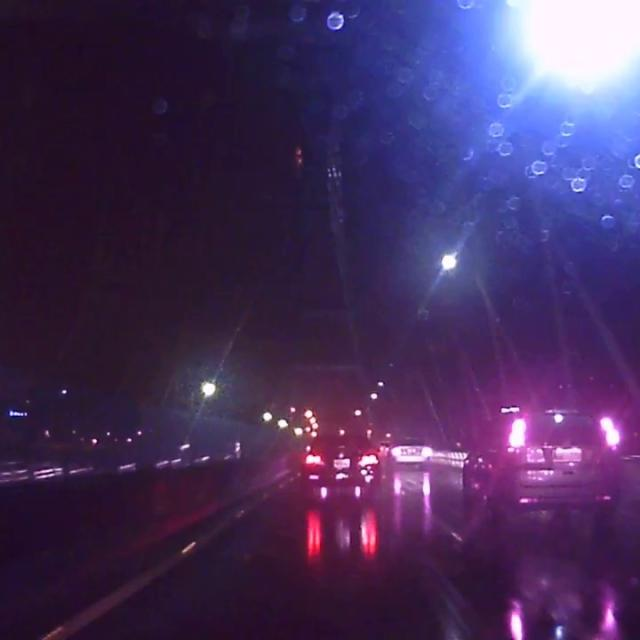Car: (455, 407, 617, 516), (299, 426, 382, 491), (384, 436, 430, 467)
